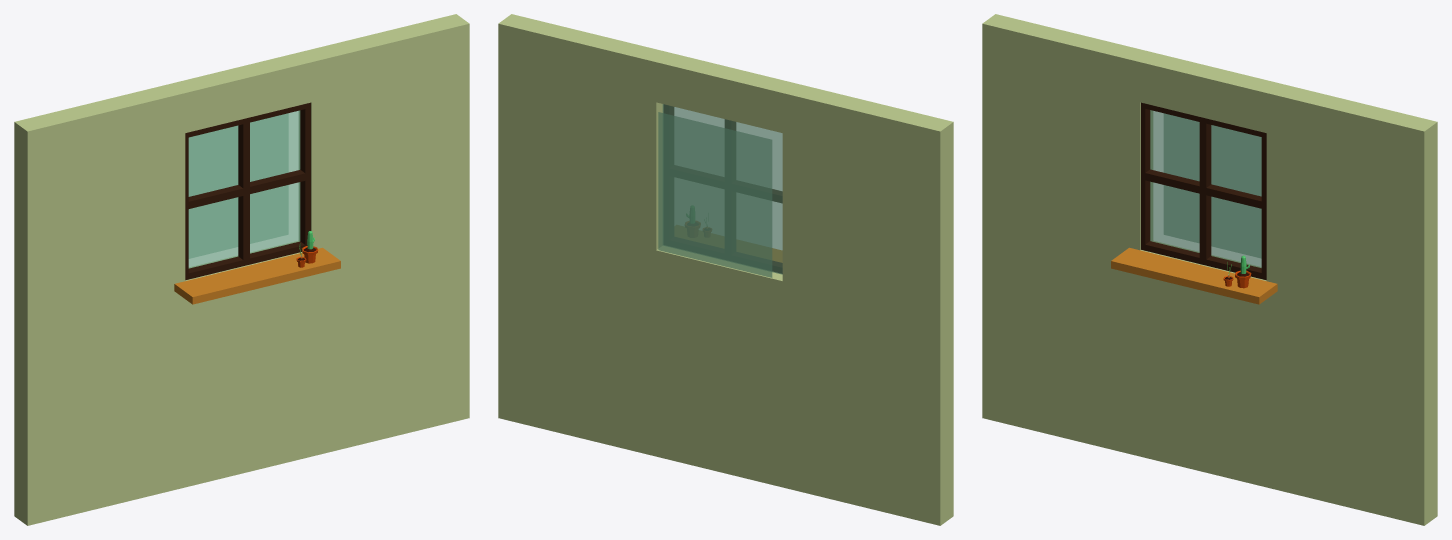
The model's file is window sill.fbx.
3 views of the same model, side by side, from view 1: azimuth 30°, elevation 25°; view 2: azimuth 150°, elevation 25°; view 3: azimuth 330°, elevation 25° (orthographic).
Visible parts, largest first — view 1: Wall, Glass, Shelf; view 2: Wall, Glass; view 3: Wall, Glass, Shelf.
Part boxes in pixels (x1,y1,x2,y2): Wall: (14, 14, 469, 525); Glass: (185, 102, 310, 280); Shelf: (174, 247, 340, 304); Wall: (498, 14, 953, 525); Glass: (658, 104, 782, 277); Wall: (982, 14, 1437, 525); Glass: (1141, 102, 1266, 280); Shelf: (1111, 247, 1277, 304).
Bounding box in the file's own units: 1028 × 876 × 143.
